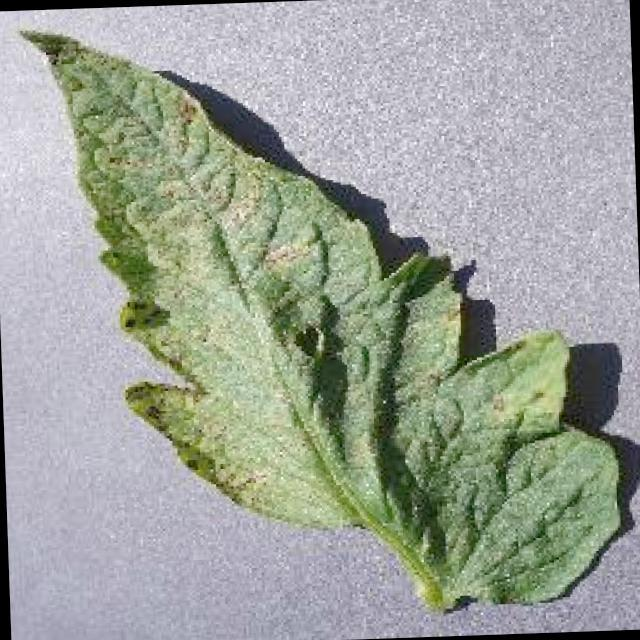Tomato Septoria spot leaf: (15, 3, 630, 617)
